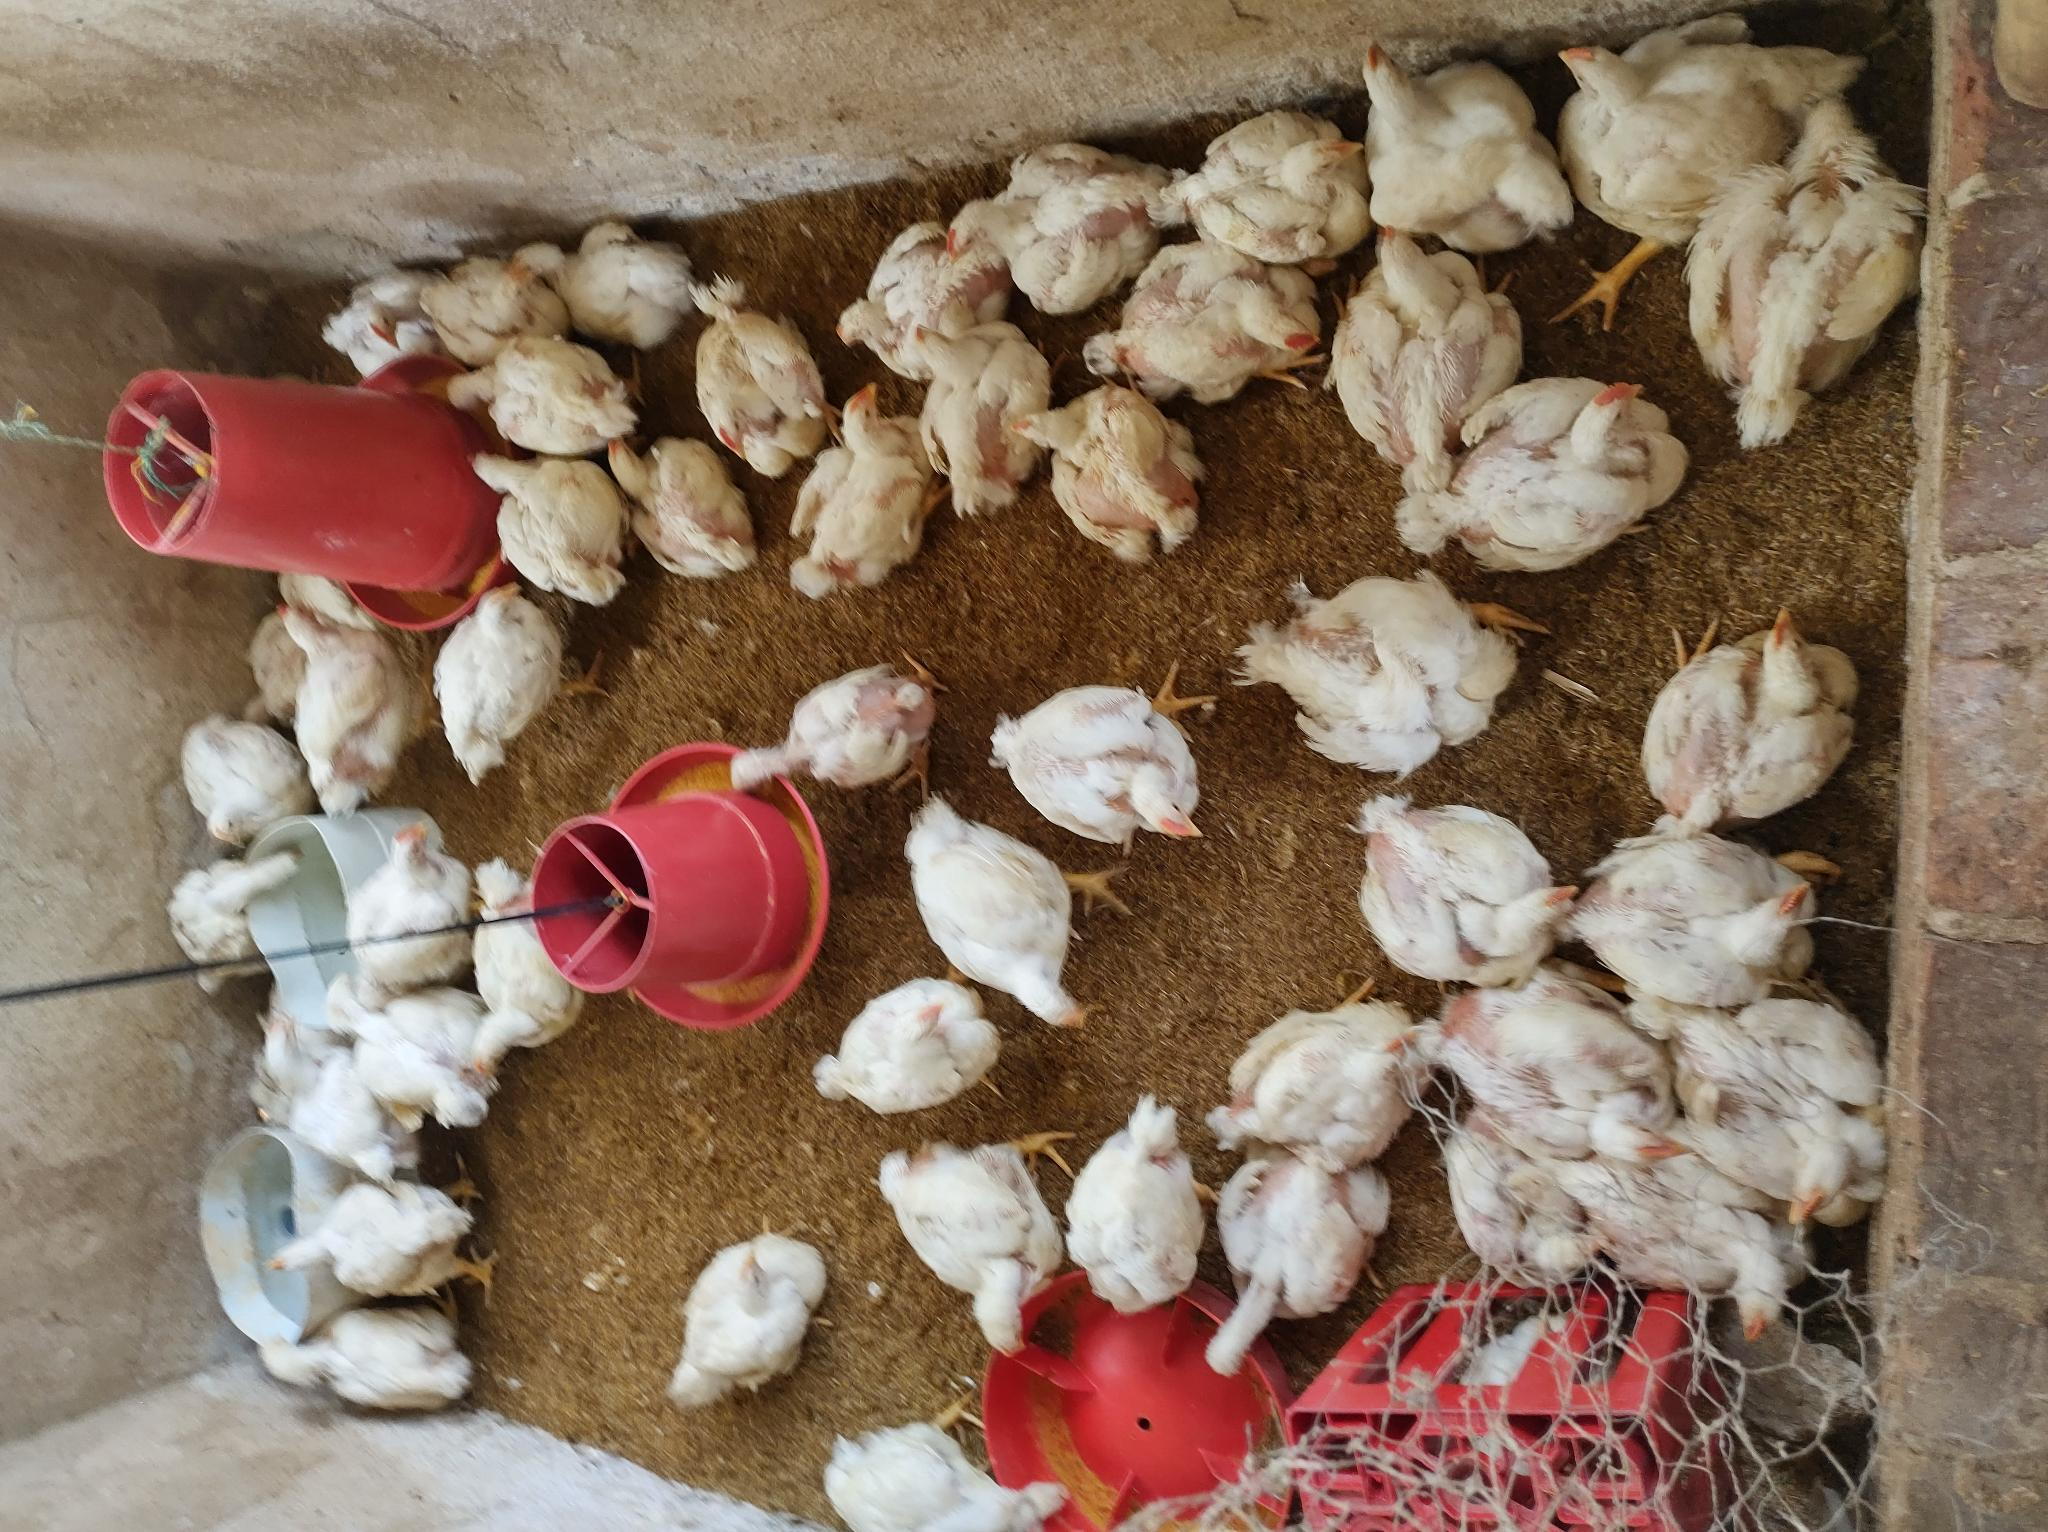Pollos: (1683, 92, 1919, 447), (1548, 0, 1866, 243), (1245, 570, 1520, 772), (1424, 367, 1688, 574), (1438, 961, 1688, 1175), (1676, 990, 1894, 1233), (1326, 216, 1527, 468), (1641, 599, 1858, 830), (1556, 1139, 1799, 1345), (1343, 785, 1581, 995), (1199, 1138, 1387, 1389), (1577, 824, 1820, 1012), (1355, 39, 1561, 256), (899, 803, 1091, 1036), (875, 1130, 1055, 1373), (941, 142, 1170, 320), (988, 681, 1215, 851), (772, 373, 933, 605), (1210, 1001, 1445, 1159), (1088, 240, 1313, 397), (890, 303, 1052, 518), (1163, 101, 1369, 269), (656, 1213, 829, 1411), (1001, 389, 1199, 558), (1430, 1101, 1609, 1284), (265, 595, 415, 813), (1060, 1110, 1210, 1318), (714, 666, 941, 801), (457, 861, 587, 1094), (328, 969, 510, 1135), (426, 574, 560, 792), (459, 441, 627, 607), (245, 1012, 418, 1170), (804, 975, 1001, 1114), (257, 1183, 484, 1302), (249, 1295, 463, 1421), (822, 219, 1007, 360), (824, 1427, 1067, 1532), (595, 423, 756, 581), (692, 307, 835, 480), (500, 222, 695, 343), (441, 333, 637, 452), (167, 835, 306, 998), (343, 813, 470, 980), (166, 708, 312, 851), (417, 261, 565, 360), (306, 266, 436, 372)
